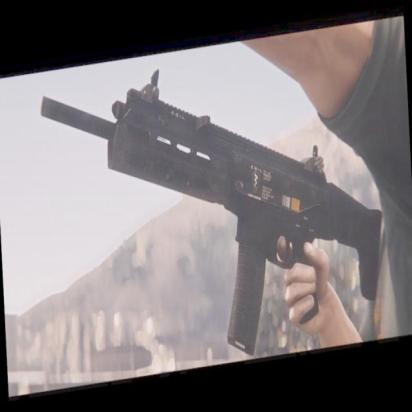Gun: (37, 75, 393, 375)
